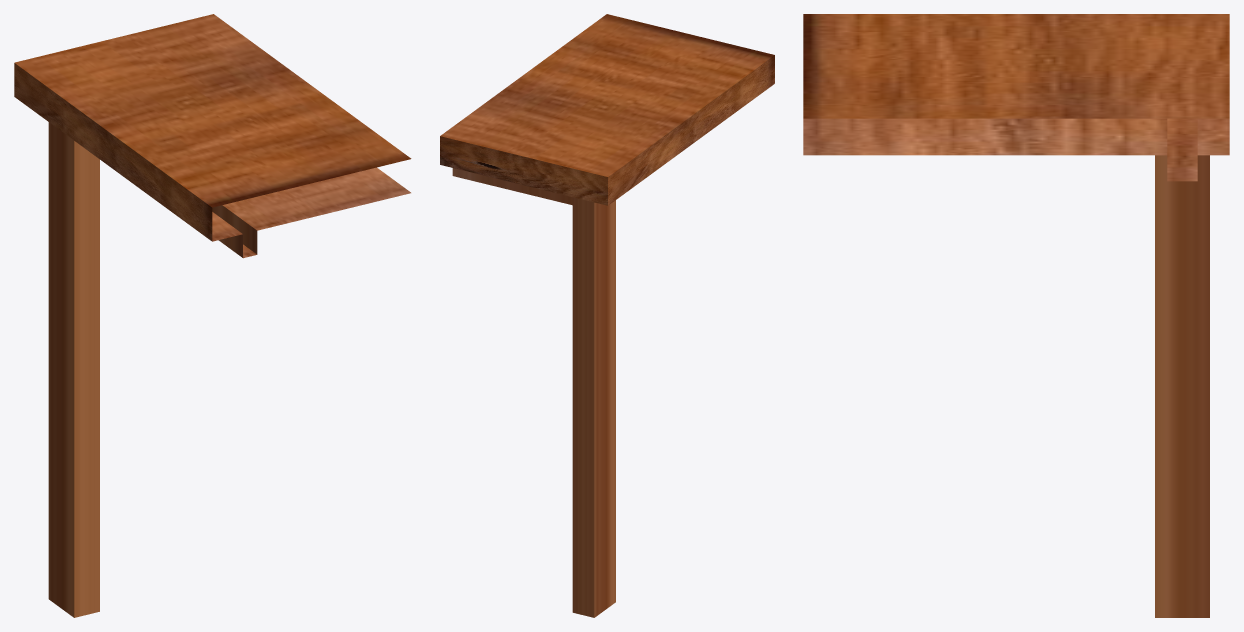
Rendered from colored_table.glb.
3 views of the same model, side by side, from view 1: azimuth 30°, elevation 25°; view 2: azimuth 150°, elevation 25°; view 3: azimuth 270°, elevation 25° (orthographic). The views are drawn at different scales.
Parts seen in each view (by area): view 1: Cube; view 2: Cube; view 3: Cube.
Boxes of the visible parts, x1,y1,x2,y2 form: Cube: (14, 14, 411, 617); Cube: (440, 14, 774, 617); Cube: (803, 14, 1229, 617).
Bounding box in the file's own units: 0.7432 × 1.91 × 1.28.
Materials: 1 (1 with a texture image).
